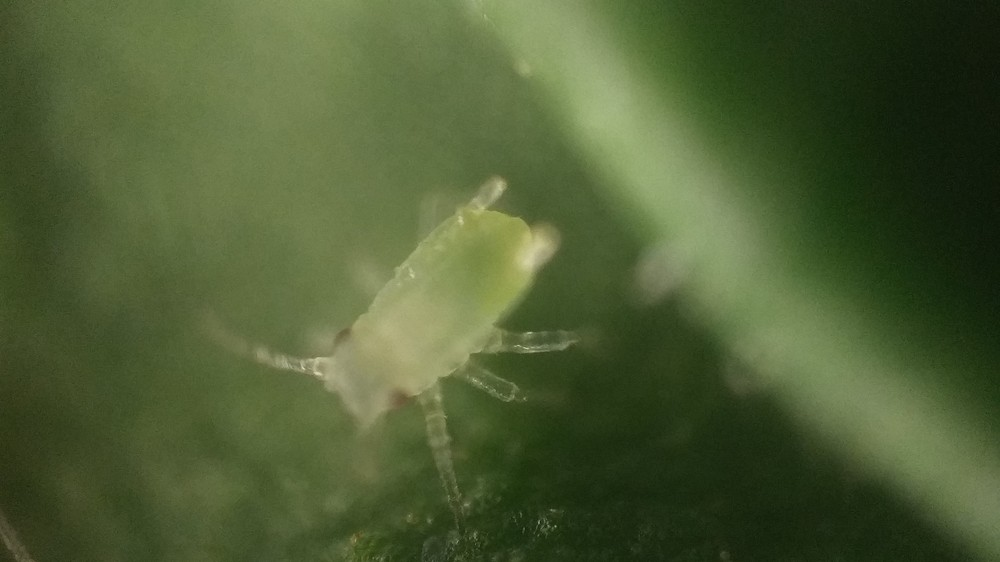Pulgon: (223, 174, 664, 512)
